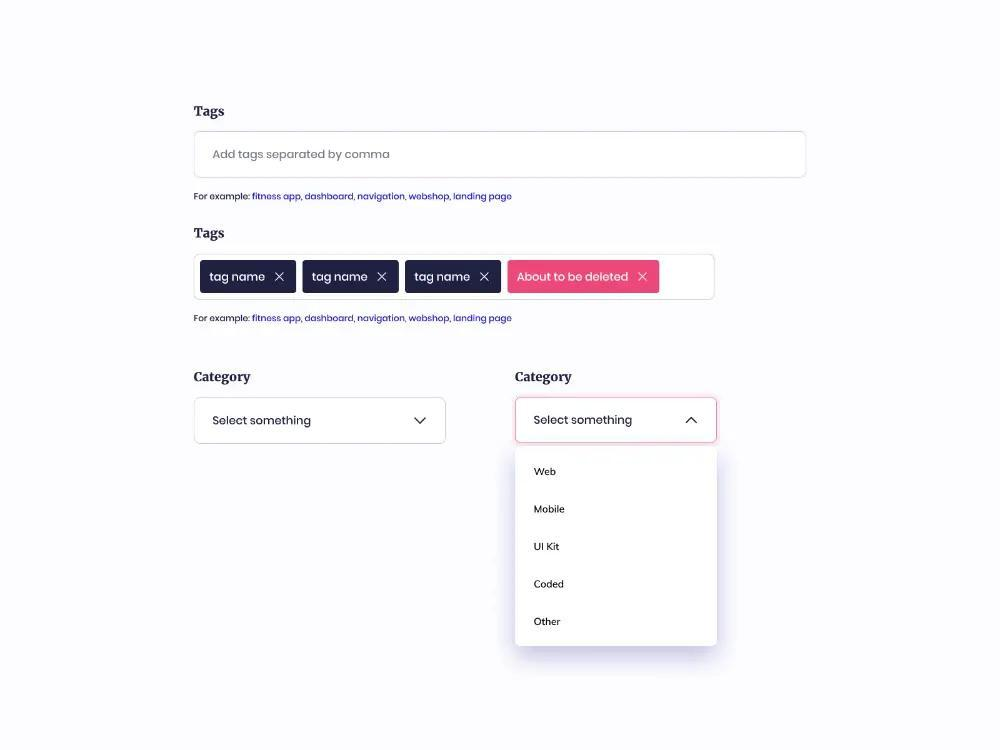dropdown: (192, 396, 448, 447), (517, 397, 720, 446)
input: (196, 130, 811, 181)
label: (507, 364, 584, 390), (190, 363, 256, 391), (185, 221, 232, 246), (190, 98, 233, 122), (533, 576, 579, 598), (529, 535, 569, 559), (533, 608, 567, 632), (531, 498, 576, 516), (532, 463, 563, 480)
